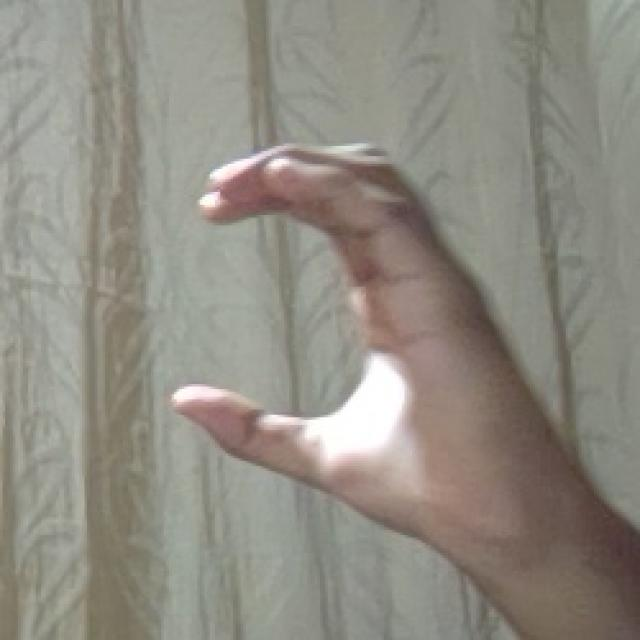Alphabet-C: (174, 146, 640, 640)
